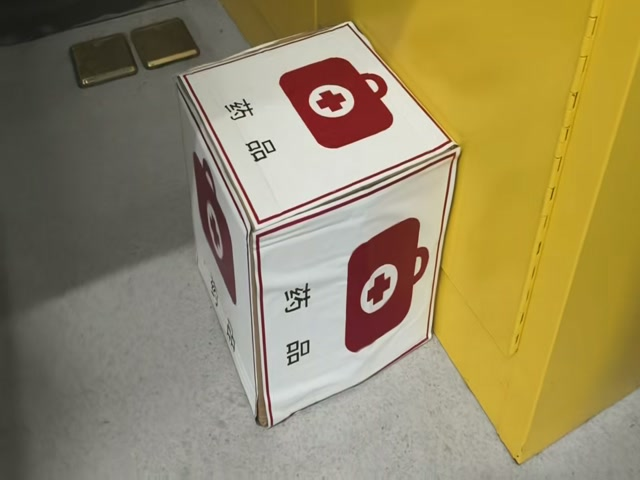Cube_medicine: (178, 23, 459, 227)
